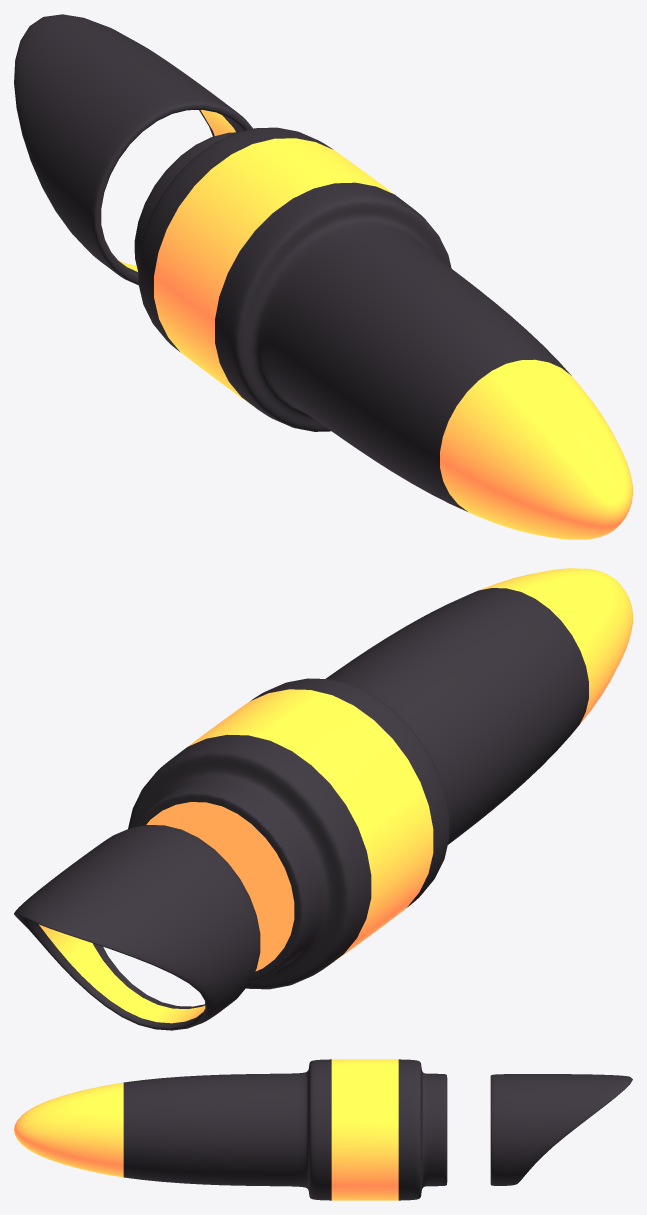
The model's file is Sparrow Missile.fbx.
The picture shows the model from 3 angles, top to bottom: view 1: azimuth 30°, elevation 25°; view 2: azimuth 150°, elevation 25°; view 3: azimuth 270°, elevation 25°; orthographic projection. The views are drawn at different scales.
Visible parts, largest first — view 1: a_Sparrow_Mesh(MedPoly+Shapekeys).003; view 2: a_Sparrow_Mesh(MedPoly+Shapekeys).003; view 3: a_Sparrow_Mesh(MedPoly+Shapekeys).003.
Part boxes in pixels (x1,y1,x2,y2): a_Sparrow_Mesh(MedPoly+Shapekeys).003: (14,14,632,539); a_Sparrow_Mesh(MedPoly+Shapekeys).003: (14,568,632,1030); a_Sparrow_Mesh(MedPoly+Shapekeys).003: (14,1059,632,1200).
Bounding box in the file's own units: 38.53 × 38.53 × 168.
